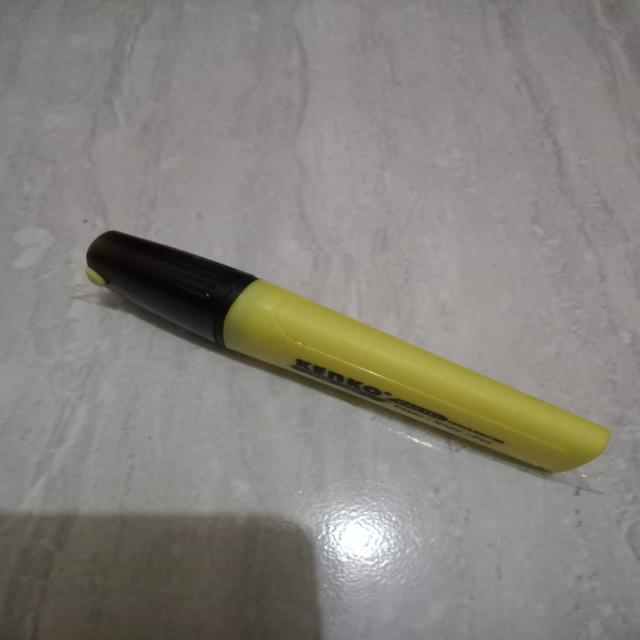highlighter: (56, 216, 627, 492)
